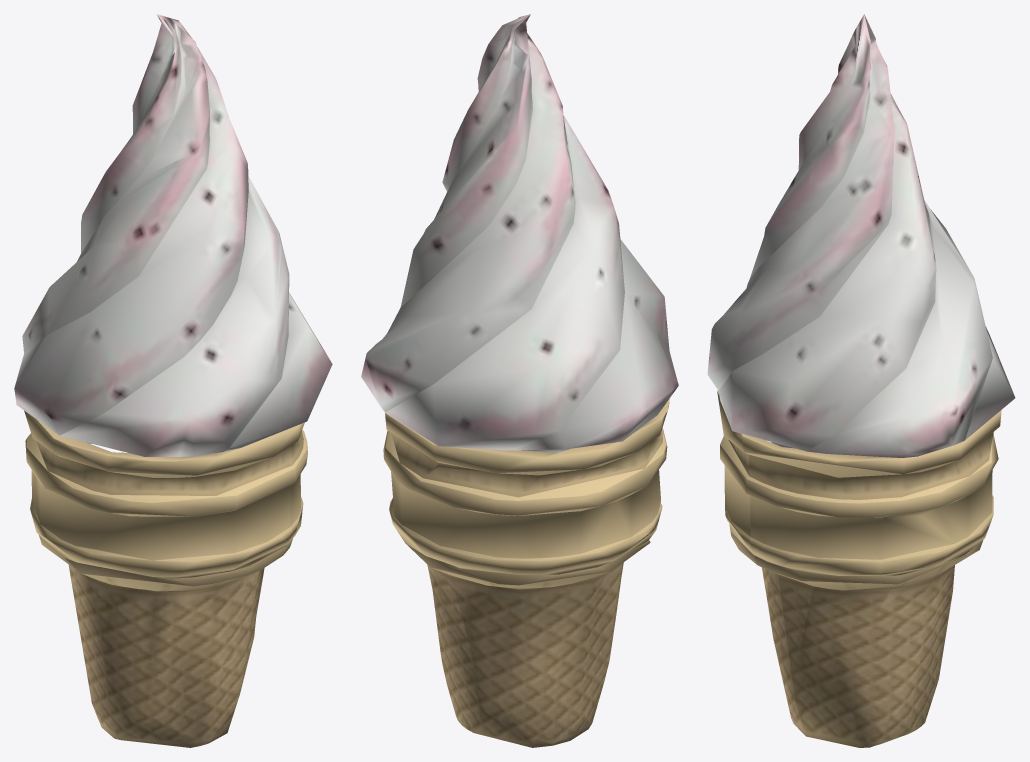
Rendered from Ice_cream.glb.
3 renders of one model, left to right at view 1: azimuth 30°, elevation 25°; view 2: azimuth 150°, elevation 25°; view 3: azimuth 270°, elevation 25°, orthographic.
Visible parts, largest first — view 1: Obj3d66-9769102-2-439; view 2: Obj3d66-9769102-2-439; view 3: Obj3d66-9769102-2-439.
Part boxes in pixels (x1,y1,x2,y2): Obj3d66-9769102-2-439: (14, 14, 332, 747); Obj3d66-9769102-2-439: (361, 14, 678, 747); Obj3d66-9769102-2-439: (707, 14, 1015, 747).
Bounding box in the file's own units: 0.3163 × 0.8003 × 0.3182.
1 material, 1 textured.
